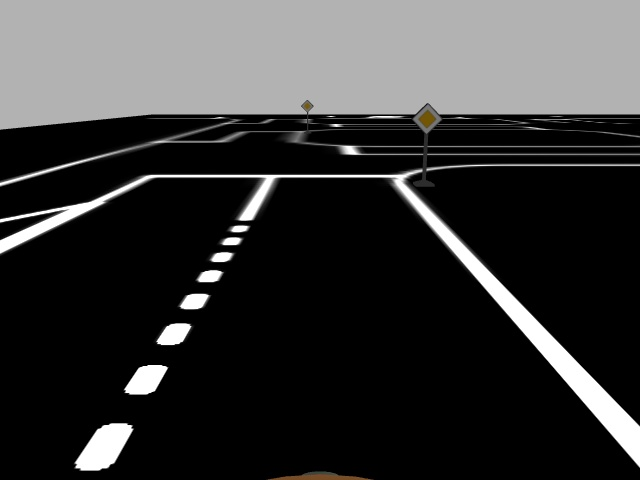priority: (411, 102, 443, 134)
